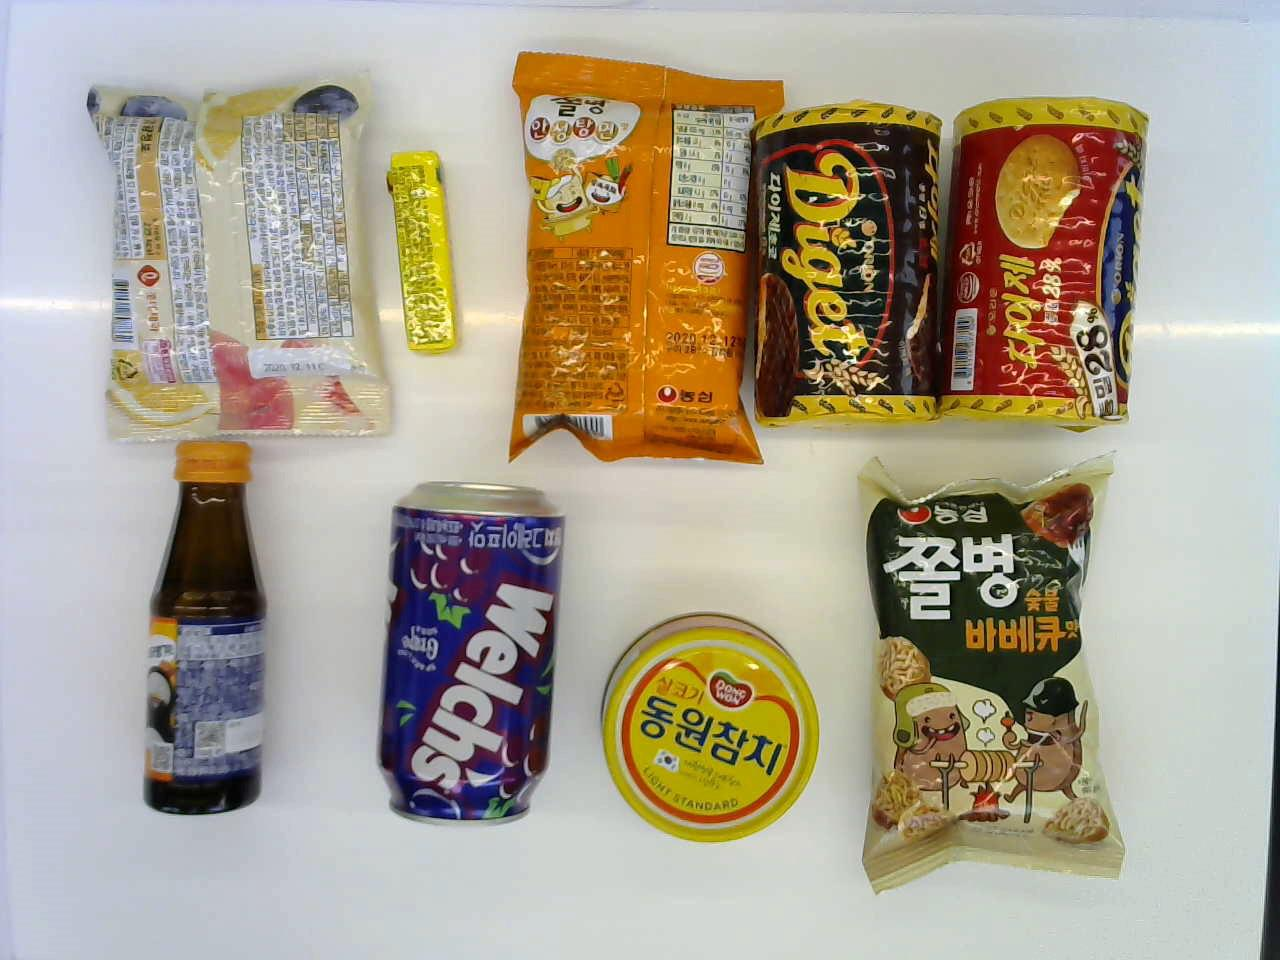diget_choco: (748, 99, 959, 436)
diget_ori: (952, 89, 1163, 426)
gumi_gumi: (54, 77, 374, 444)
jjolbyung_noodle: (506, 47, 769, 466)
jjolbyung_ori: (854, 456, 1105, 883)
juicyfresh: (378, 150, 459, 359)
tuna: (590, 611, 819, 848)
vita500: (130, 442, 282, 820)
welchs: (372, 478, 584, 838)
